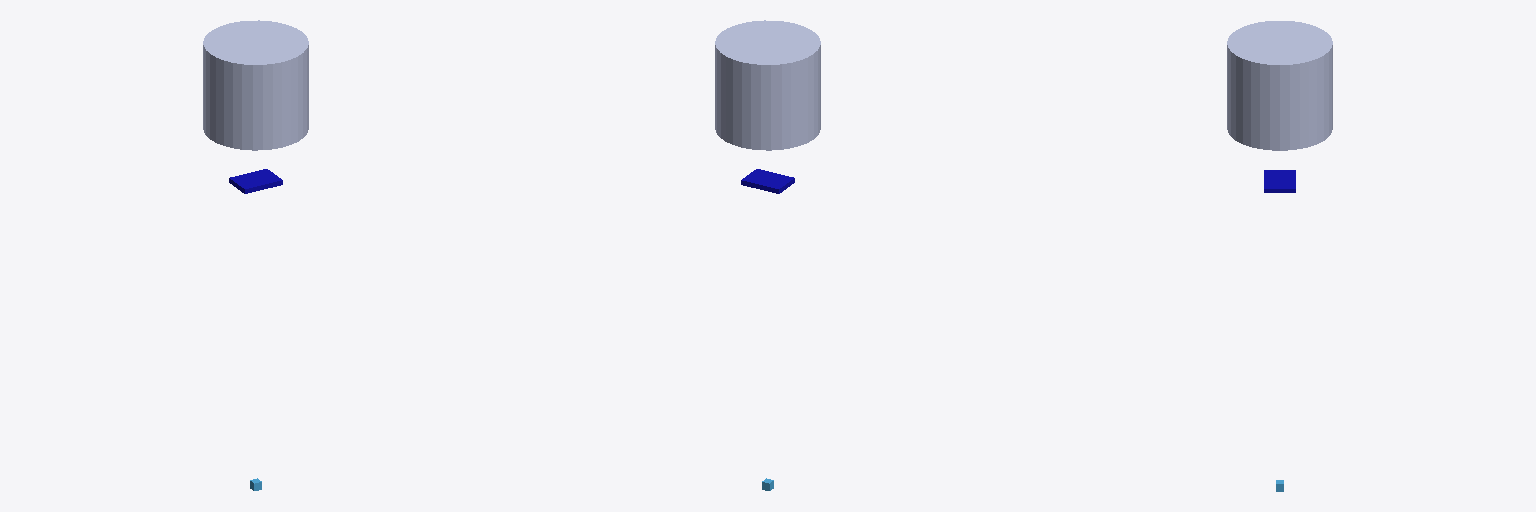
URDF robot description (robot):
<robot name="robot">
  <material name="blue">
    <color rgba="0.1 0.1 0.75 0.9"/>
  </material>

  <link name="base_link">
    <inertial>
      <origin
        xyz="-0.00915640899856677 -1.23594917594765E-18 0.116771439156292"
        rpy="0 0 0" />
      <mass
        value="1.53513901604802" />
      <inertia
        ixx="0.0429859907839231"
        ixy="1.40607469244214E-18"
        ixz="0.00161915133178891"
        iyy="0.0421680076448672"
        iyz="-2.37846851589008E-18"
        izz="0.0250023780420302" />
    </inertial> 
    <visual>
      <origin
        xyz="0 0 0"
        rpy="0 0 0" />
      <geometry>
        <mesh filename="package://robot_description/meshes/base_link.STL" />
      </geometry>
      <material
        name="">
        <color rgba="0.792156862745098 0.819607843137255 0.933333333333333 1" />
      </material>
    </visual>
    <collision>
      <origin
        xyz="0 0 0"
        rpy="0 0 0" />
      <geometry>
        <mesh filename="package://robot_description/meshes/base_link.STL" />
      </geometry>
    </collision>
  </link>

  <link name="base_footprint">
    <visual>
        <geometry>
          <box size="0.005 0.005 0.005" />
        </geometry>
    </visual>
  </link>
  <joint name="base_footprint_joint" type="fixed">
    <origin xyz="0 0 0.05"/>
    <parent link="base_footprint"/>
    <child link="base_link"/>
  </joint>


  <link name="base_imu_link" type="fixed">
    <visual>
      <geometry>
        <box size="0.025 0.018 0.003"/>
      </geometry>
      <material name="blue"/>
    </visual>
  </link>
  <joint name="base_link_to_IMU" type="fixed">
    <origin xyz="0 0 0.14"/>
    <parent link="base_link"/>
    <child link="base_imu_link"/>
  </joint>


  <link name="lidar" type="fixed">
    <inertial>
      <origin>
        xyz="0 0 0"
        rpy="0 0 0"
      </origin>
      <mass value="0.19" />
      <inertia
        ixx="0.0429859907839231"
        ixy="1.40607469244214E-18"
        ixz="0.00161915133178891"
        iyy="0.0421680076448672"
        iyz="-2.37846851589008E-18"
        izz="0.0250023780420302" />
    </inertial>
    <visual>
      <origin>
        xyz="0 0 0"
        rpy="1.57079 0 0"
      </origin>
      <geometry>
        <cylinder length="0.0535" radius="0.03" />
      </geometry>
      <material name="">
        <color rgba="0.79216 0.81961 0.9333 0.5" />
      </material>
    </visual>
    <collision>
      <origin>
        xyz="0 0 0"
        rpy="1.57.79 0 0"
      </origin>
      <geometry>
        <cylinder length="0.042" radius="0.038" />
      </geometry>
    </collision>
  </link>
  <joint name="lidar_to_imu" type="fixed">
    <origin xyz="0 0 0.060"/>
    <parent link="base_imu_link"/>
    <child link="lidar"/>
  </joint>

</robot>

--- Facts derived from the render (not from the file) ---
Views: 3 orthographic renders of the robot side by side, from view 1: azimuth 30°, elevation 25°; view 2: azimuth 150°, elevation 25°; view 3: azimuth 270°, elevation 25°.
Model robot with 4 links and 3 joints (3 fixed), rooted at base_footprint, posed all joints at 0.
Links seen in each view (by area): view 1: lidar, base_imu_link; view 2: lidar, base_imu_link; view 3: lidar, base_imu_link.
Link boxes in pixels (x1=…): lidar: x1=203, y1=20, x2=308, y2=150; base_imu_link: x1=229, y1=169, x2=282, y2=193; lidar: x1=715, y1=20, x2=820, y2=150; base_imu_link: x1=741, y1=169, x2=794, y2=193; lidar: x1=1227, y1=21, x2=1332, y2=150; base_imu_link: x1=1264, y1=170, x2=1295, y2=192.
Bounding box of the posed robot: 0.06 × 0.06 × 0.2792 m (x, y, z).
0 mesh visuals loaded from 1 distinct referenced files (none loaded); not drawn: 1 (reference not matched to a file when rendering).